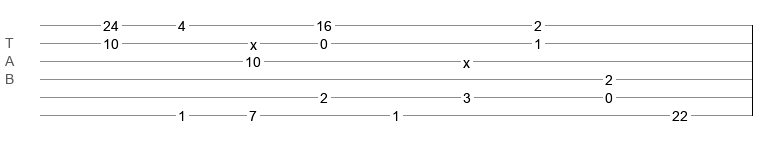0: (320, 36, 328, 46), (605, 90, 613, 100)
1: (178, 108, 186, 118), (392, 108, 400, 118), (534, 36, 542, 46)
10: (103, 36, 119, 46), (245, 54, 261, 64)
16: (316, 18, 332, 28)
2: (320, 90, 328, 100), (534, 18, 542, 28), (605, 72, 613, 82)
22: (672, 108, 688, 118)
24: (103, 18, 119, 28)
3: (463, 90, 471, 100)
4: (178, 18, 186, 28)
7: (249, 108, 257, 118)
x: (250, 37, 257, 45), (463, 55, 470, 63)
